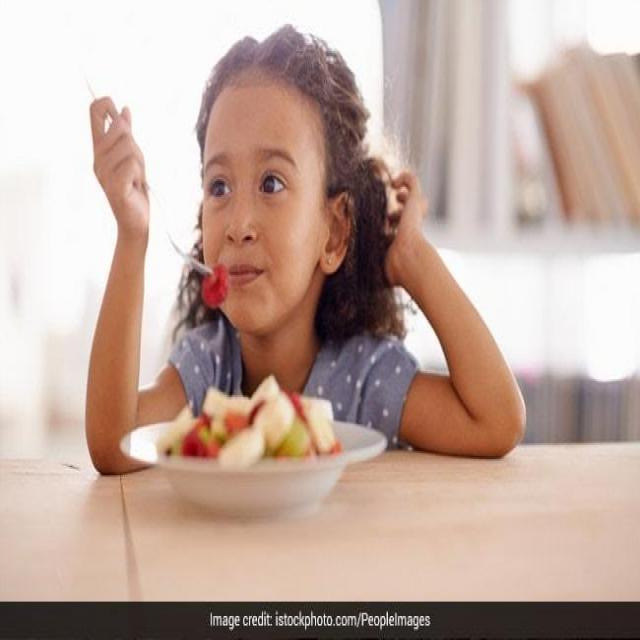child: (70, 21, 540, 474)
